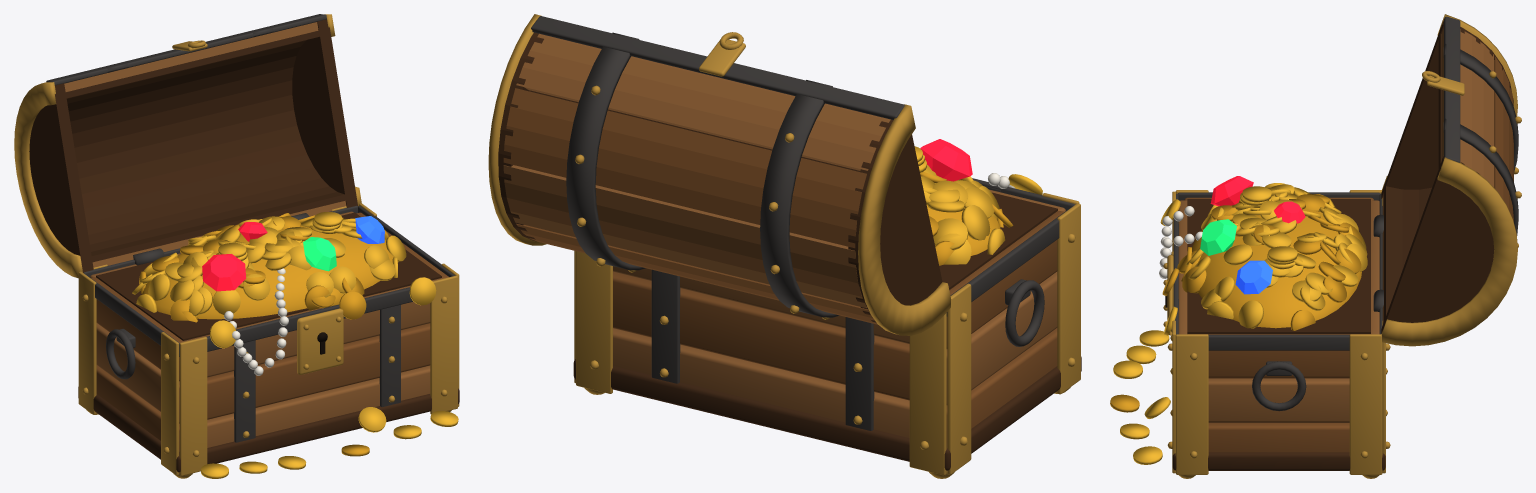
File: treasure_chest.glb
3 renders of one model, left to right at view 1: azimuth 30°, elevation 25°; view 2: azimuth 150°, elevation 25°; view 3: azimuth 270°, elevation 25°, orthographic. The views are drawn at different scales.
Visible parts, largest first — view 1: treasure_chest; view 2: treasure_chest; view 3: treasure_chest.
Boxes of the visible parts, box(x1,y1,x2,y2) form: treasure_chest: box(14, 14, 459, 478); treasure_chest: box(488, 14, 1081, 478); treasure_chest: box(1110, 14, 1521, 478).
Bounding box in the file's own units: 0.8969 × 0.9067 × 1.
